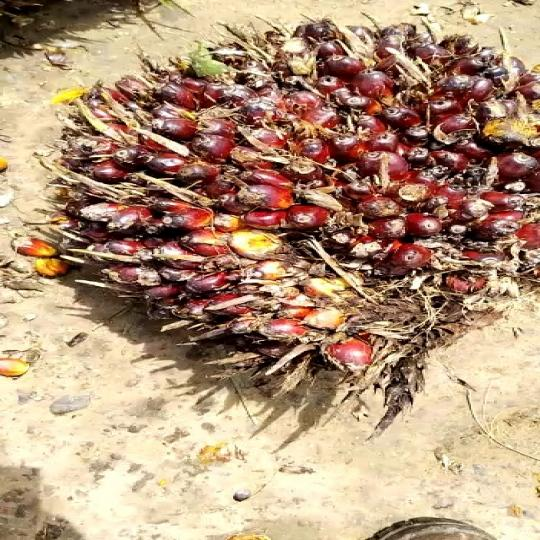masak: (62, 16, 540, 396)
